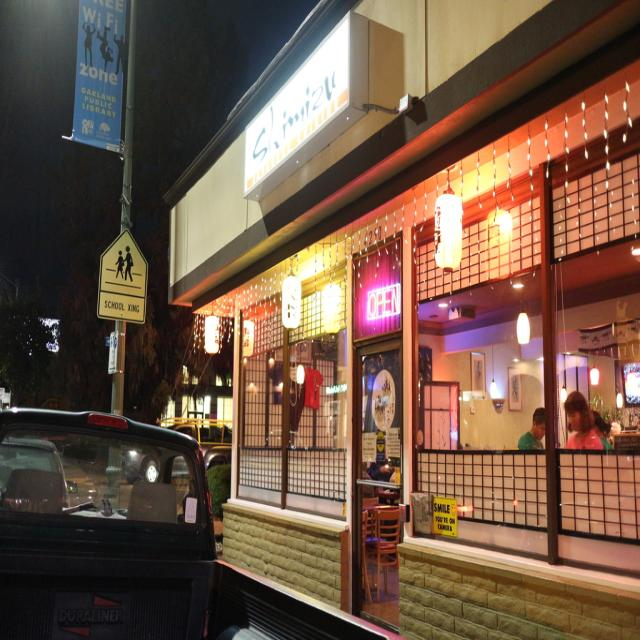car: (5, 413, 214, 597)
